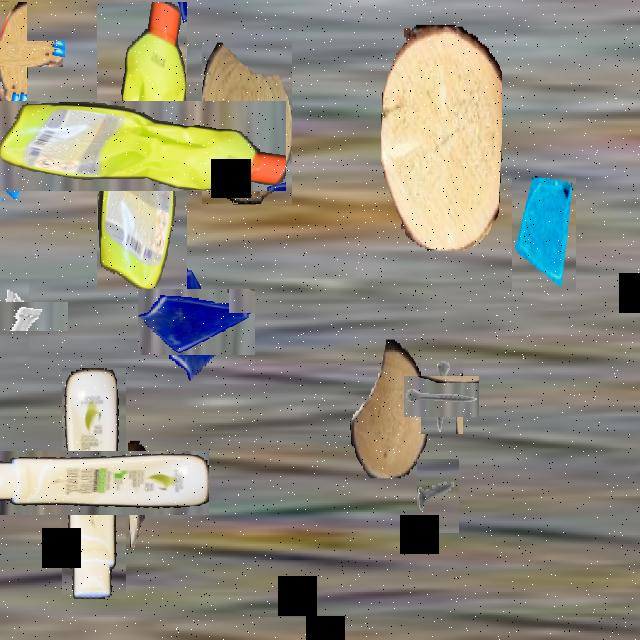glass: (150, 276, 242, 368), (512, 176, 576, 290), (0, 89, 19, 199)
metal: (413, 367, 471, 426), (0, 282, 48, 350), (417, 459, 459, 533)
plastic: (48, 52, 236, 240), (20, 410, 168, 557)
wood: (381, 25, 501, 249), (202, 41, 292, 204), (350, 340, 428, 478), (108, 461, 172, 527), (0, 21, 46, 86)
